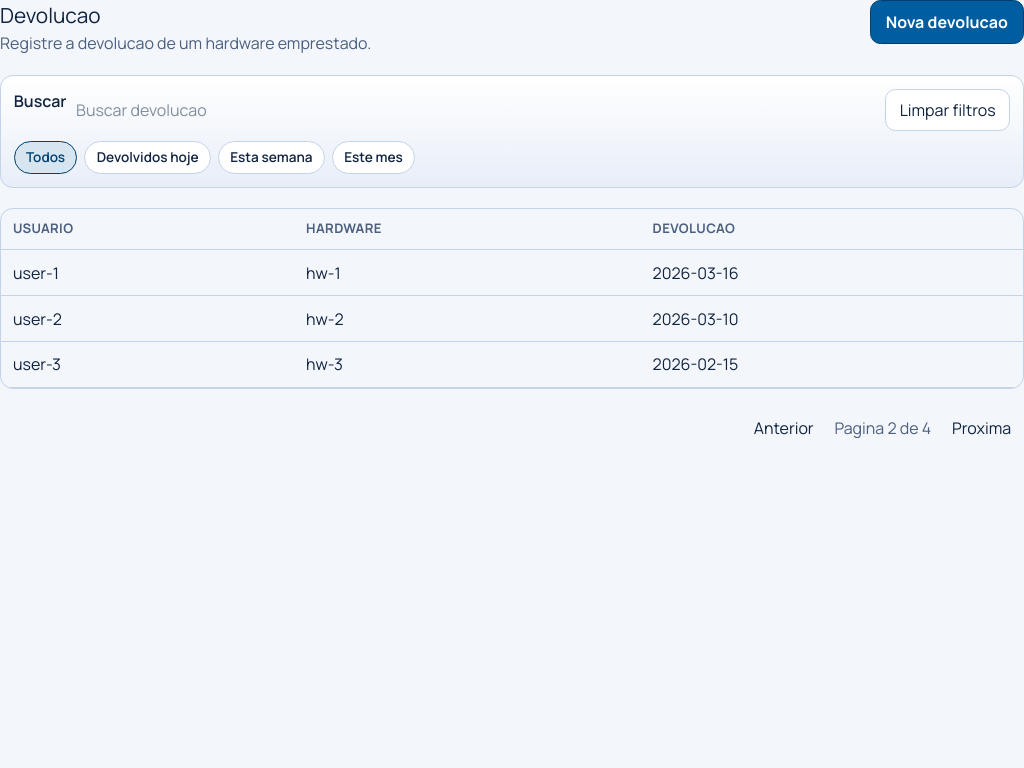
Test: DevolucaoPage listing flow › shows stale-id error while keeping modal open
This screenshot has width=1024, height=768.
Click the button "Nova devolucao" at (947, 22), box [870,0,1023,44]
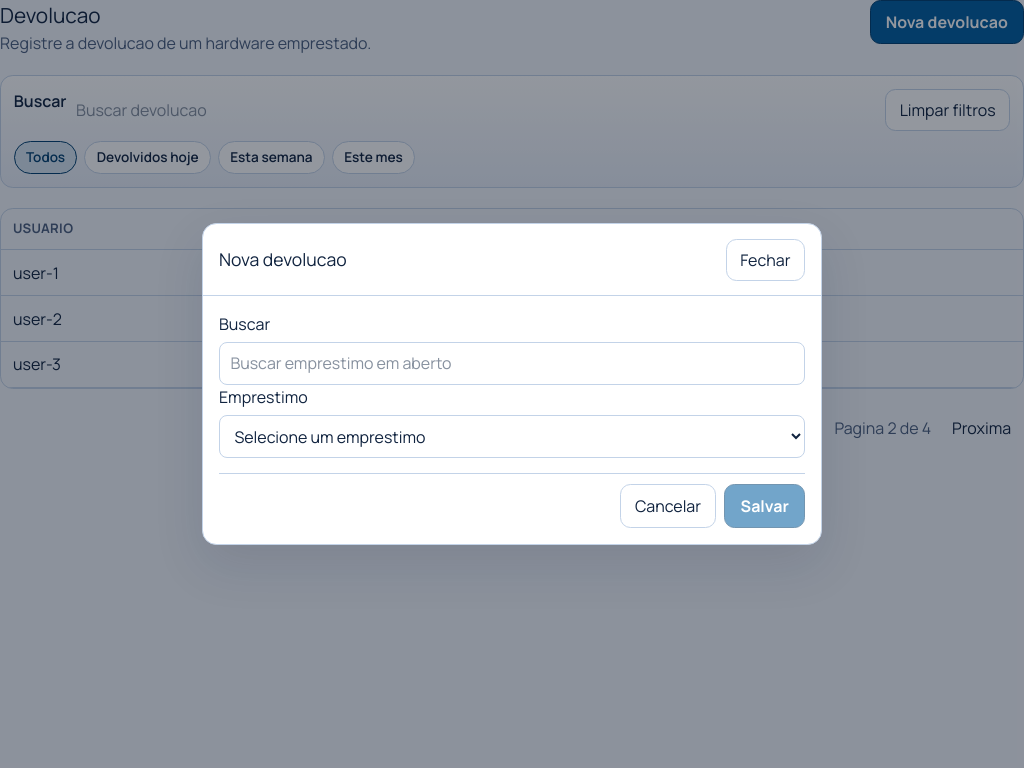
Select "emp-3 - usuario user-3 - hardware hw-3" in the dropdown labelled "Emprestimo" at (512, 437), box [219,415,805,458]
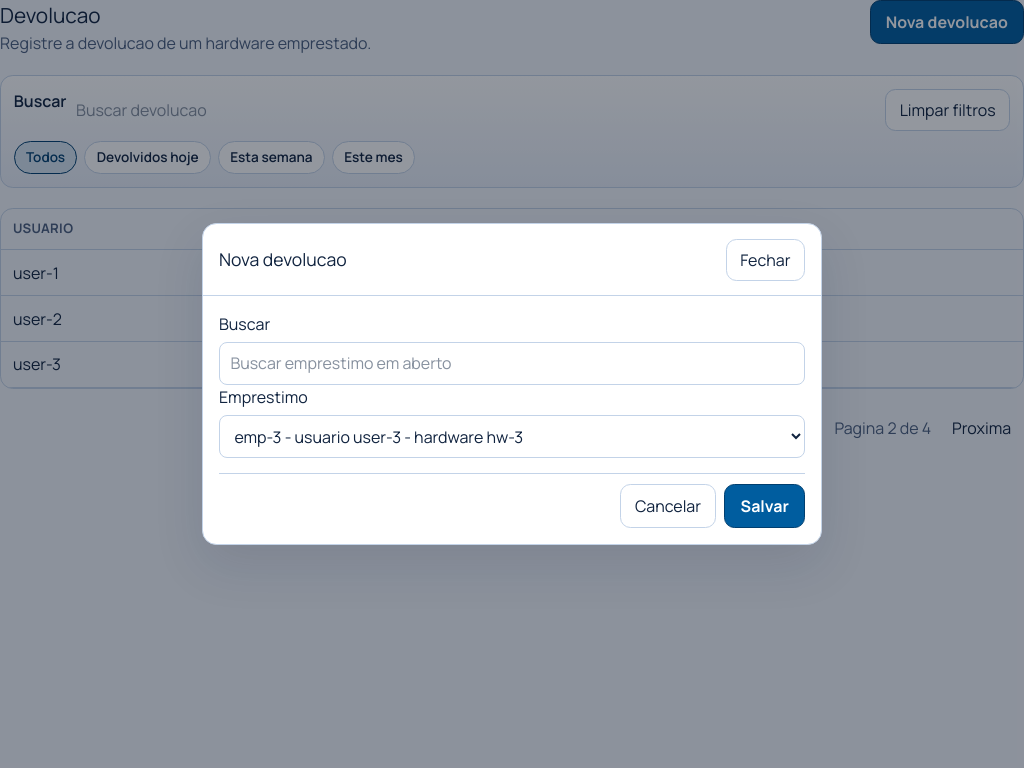
Click the button "Salvar" at (765, 506), box [724,484,805,528]
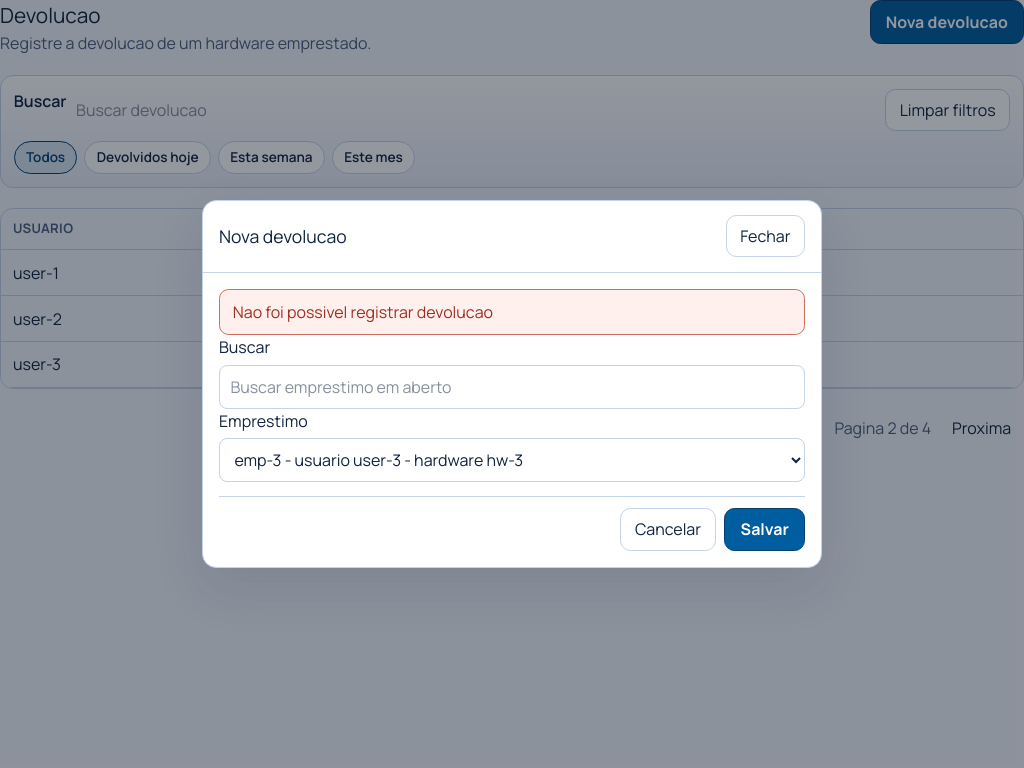
Check: the dialog "Nova devolucao" is shown, box [202,200,822,568]
Check: the text "Nao foi possivel registrar devolucao" is shown, box [219,289,805,335]
